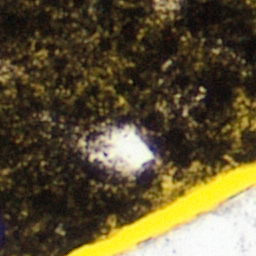cement_matrix: (0, 0, 255, 255), (83, 124, 157, 177)
cracks: (66, 161, 255, 255)
gravel_crushed_stones: (117, 185, 255, 255), (84, 125, 156, 176), (157, 0, 176, 8)
